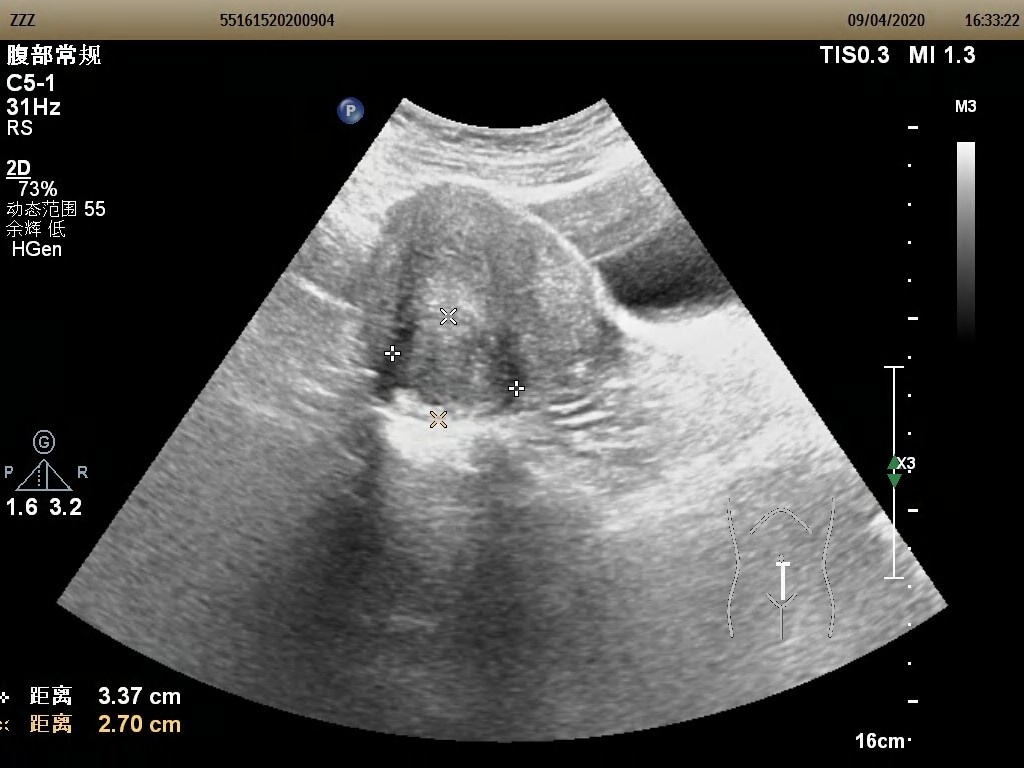肌瘤: (392, 316, 519, 421)
